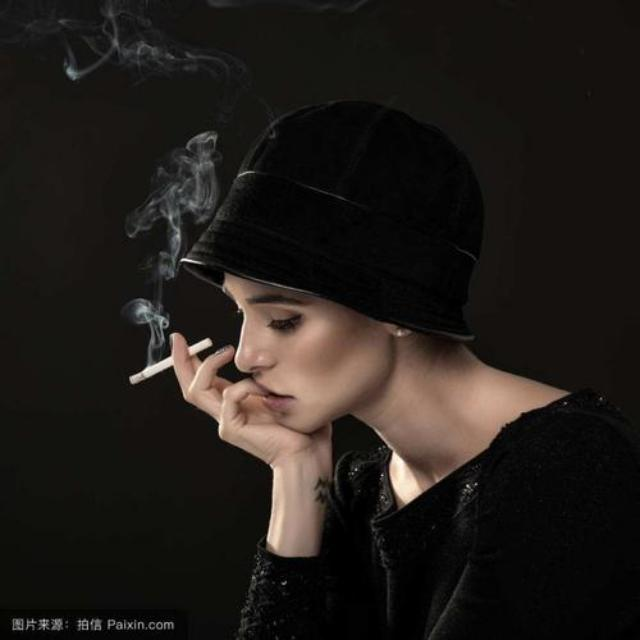Cigarette: (123, 336, 217, 392)
